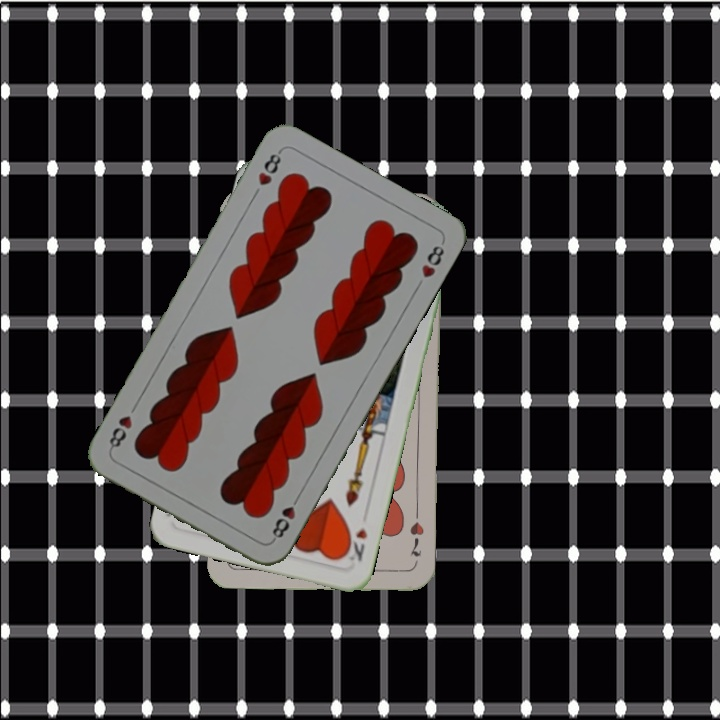H7: (406, 518, 427, 559)
H8: (268, 490, 303, 544), (253, 146, 284, 189)
HK: (340, 524, 370, 565)
